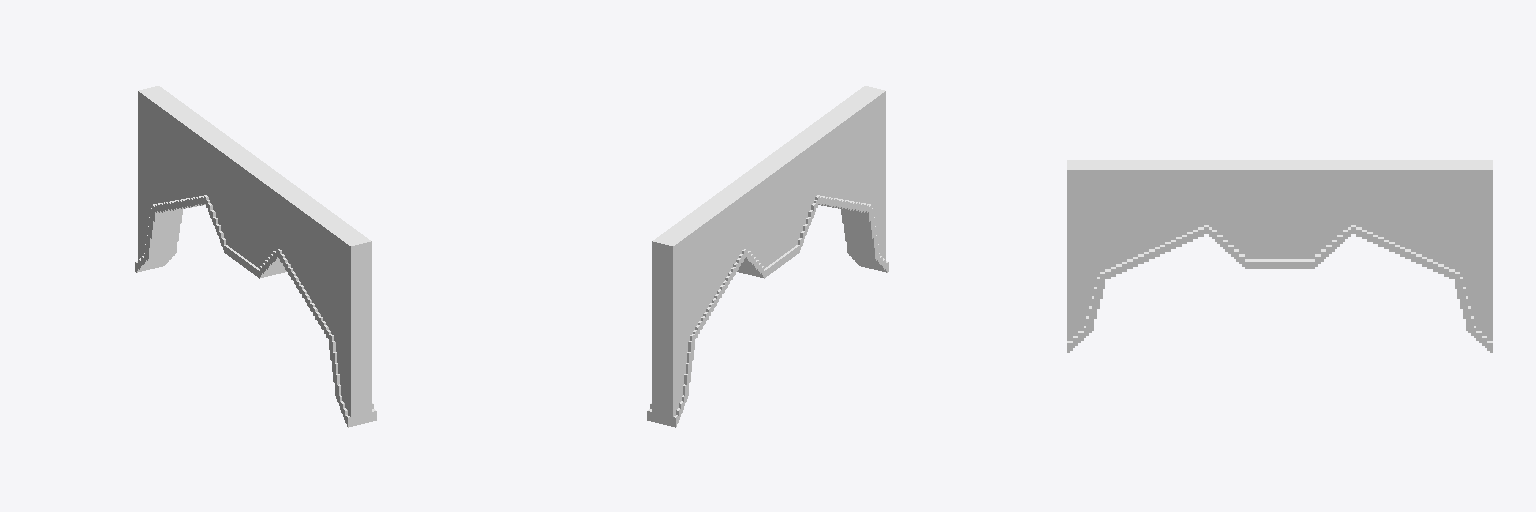
File: factory4.2-1.obj
3 renders of one model, left to right at view 1: azimuth 30°, elevation 25°; view 2: azimuth 150°, elevation 25°; view 3: azimuth 270°, elevation 25°, orthographic.
Parts seen in each view (by area): view 1: object 1; view 2: object 1; view 3: object 1.
Part boxes in pixels (bbox=[...]): object 1: bbox=[135, 86, 376, 427]; object 1: bbox=[647, 86, 888, 427]; object 1: bbox=[1067, 160, 1492, 352].
Bounding box in the file's own units: 1.2 × 7.3 × 15.6.